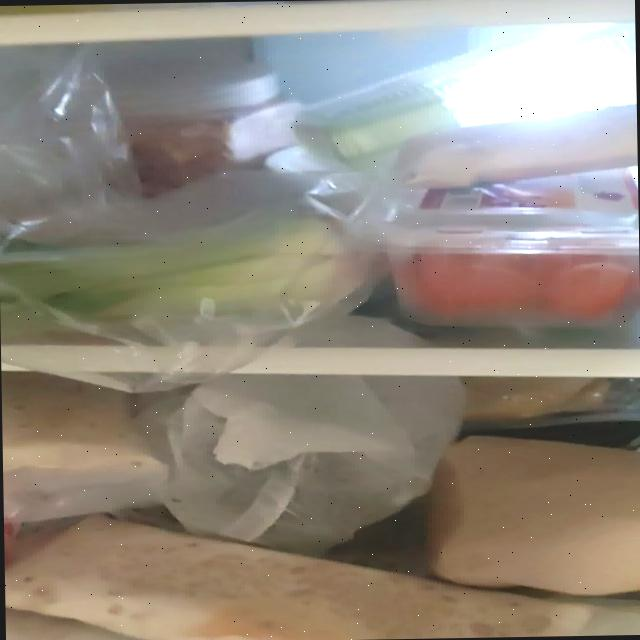leafy_greens: (0, 200, 372, 319)
tempeh: (3, 505, 598, 640)
unknown_bag: (134, 368, 472, 560)
